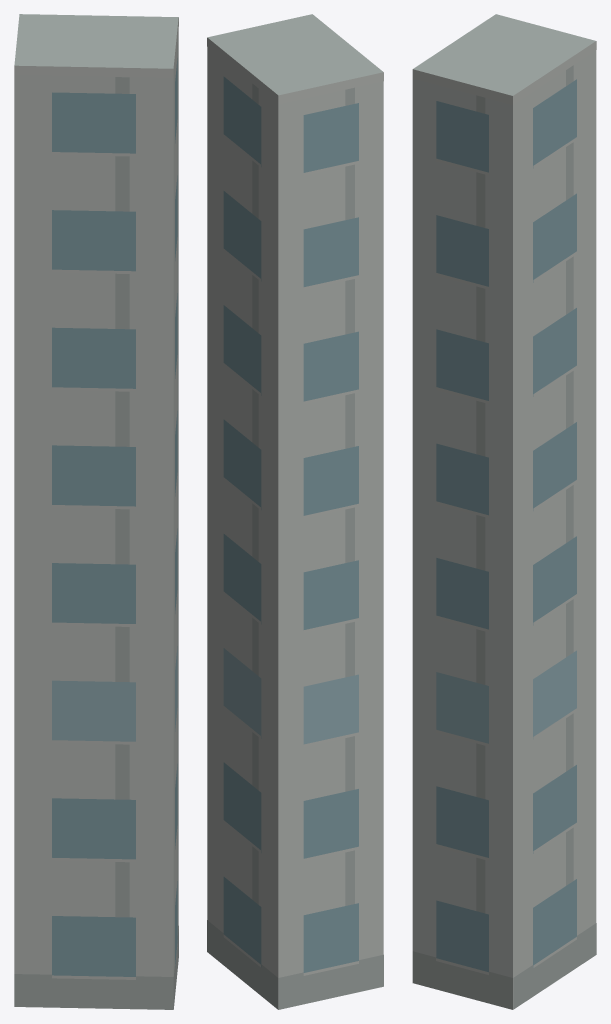
Rendered from survey-upis-32718294.glb.
3 views of the same model, side by side, from view 1: azimuth 30°, elevation 25°; view 2: azimuth 150°, elevation 25°; view 3: azimuth 270°, elevation 25° (orthographic). The views are drawn at different scales.
Visible parts, largest first — view 1: survey-upis-32718294.tmp; view 2: survey-upis-32718294.tmp; view 3: survey-upis-32718294.tmp.
Boxes of the visible parts, <box> form: survey-upis-32718294.tmp: <box>14,14,178,1009</box>; survey-upis-32718294.tmp: <box>207,14,383,1009</box>; survey-upis-32718294.tmp: <box>412,14,596,1009</box>.
Size of the model in its own units: 4.7 by 24.4 by 4.45.
